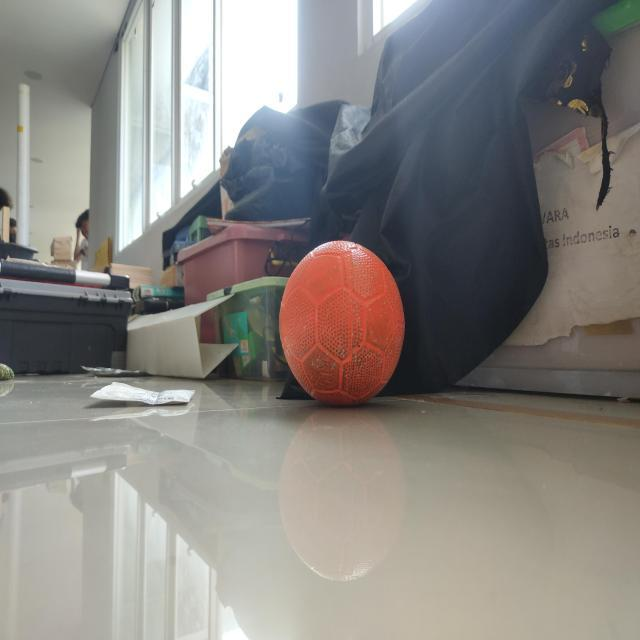bola: (260, 223, 433, 420)
